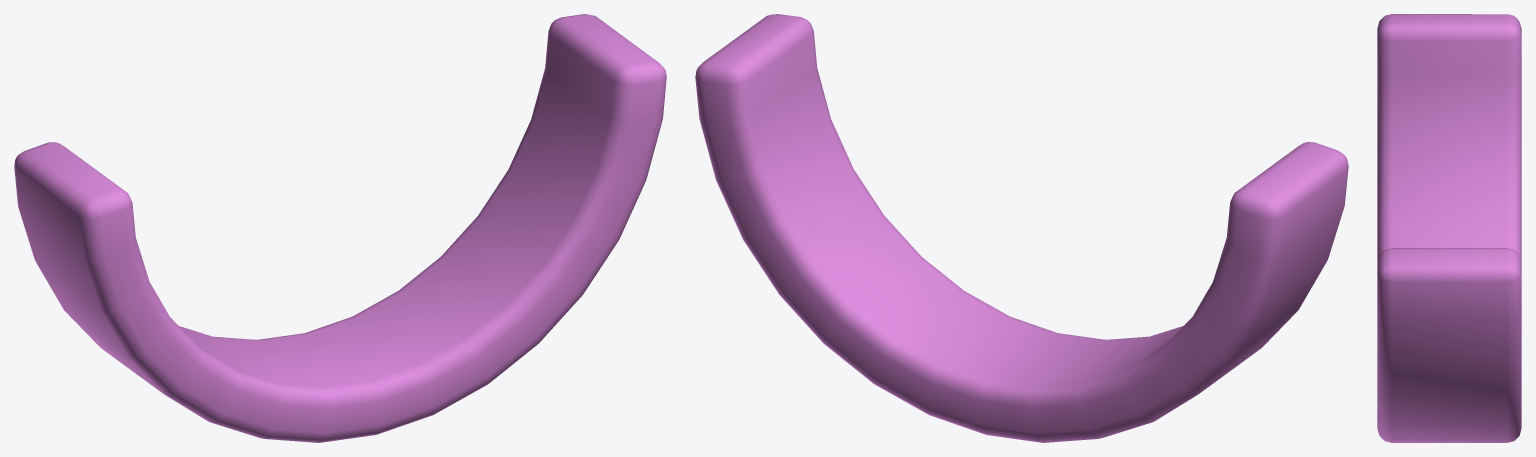
File: WayPathpedesLong.fbx
3 views of the same model, side by side, from view 1: azimuth 30°, elevation 25°; view 2: azimuth 150°, elevation 25°; view 3: azimuth 270°, elevation 25° (orthographic). The views are drawn at different scales.
Visible parts, largest first — view 1: Circle.017; view 2: Circle.017; view 3: Circle.017.
Boxes of the visible parts, x1,y1,x2,y2 form: Circle.017: [14, 14, 666, 442]; Circle.017: [695, 14, 1348, 442]; Circle.017: [1377, 14, 1521, 442].
Size of the model in its own units: 10.01 by 5.01 by 2.35.
